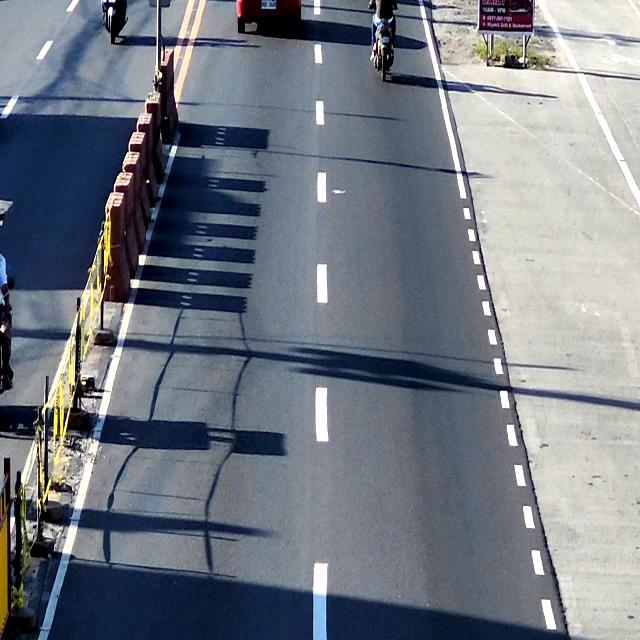Motorcycle: (370, 0, 399, 82)
